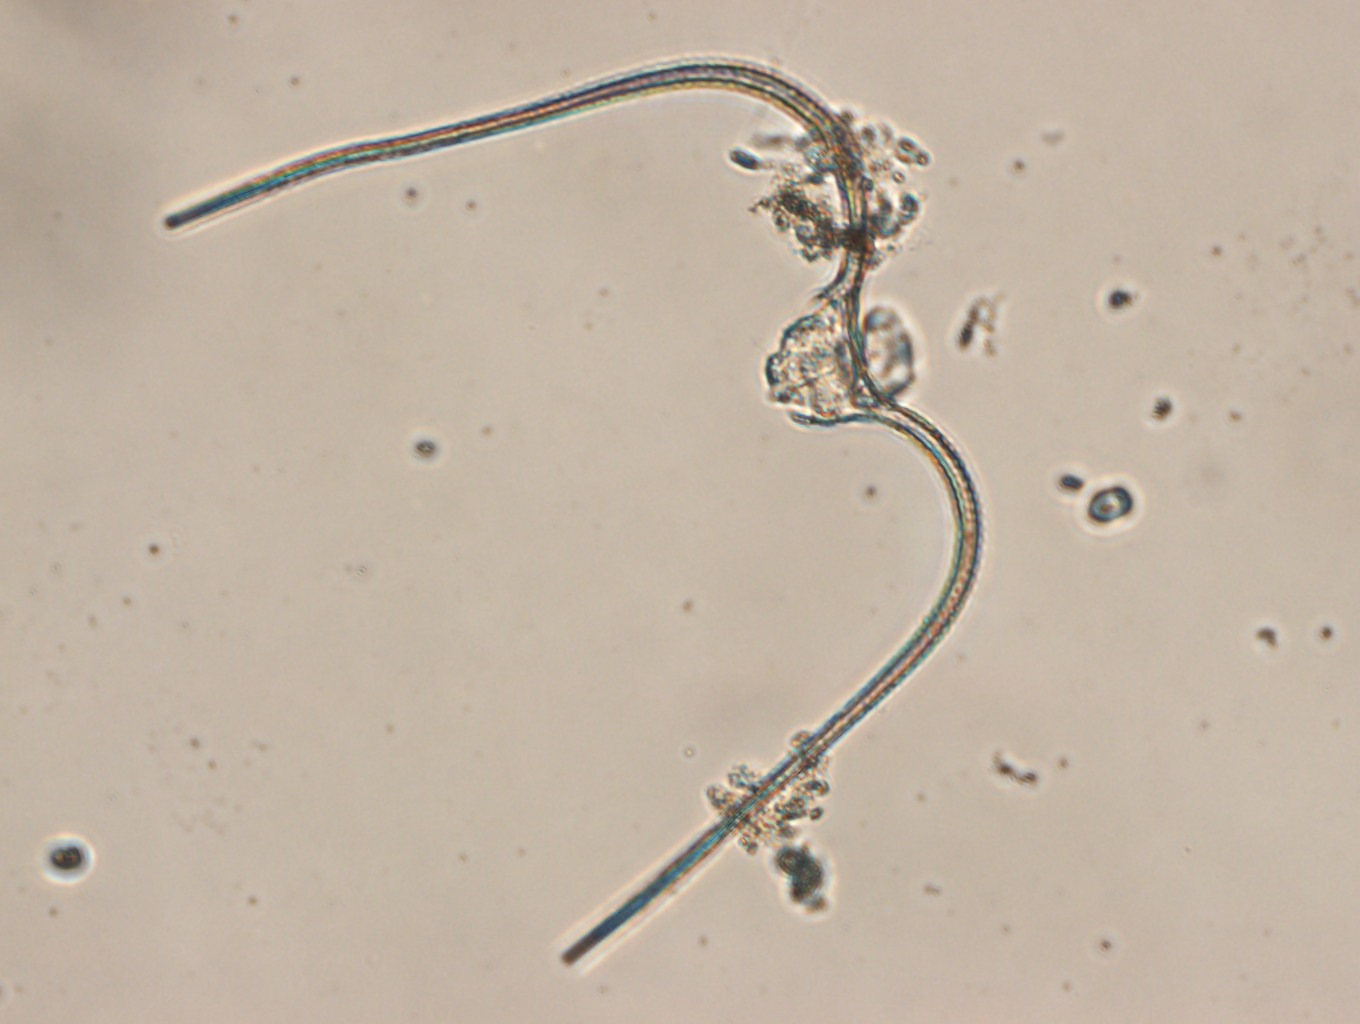ceratium trichoceros: (160, 53, 983, 970)
